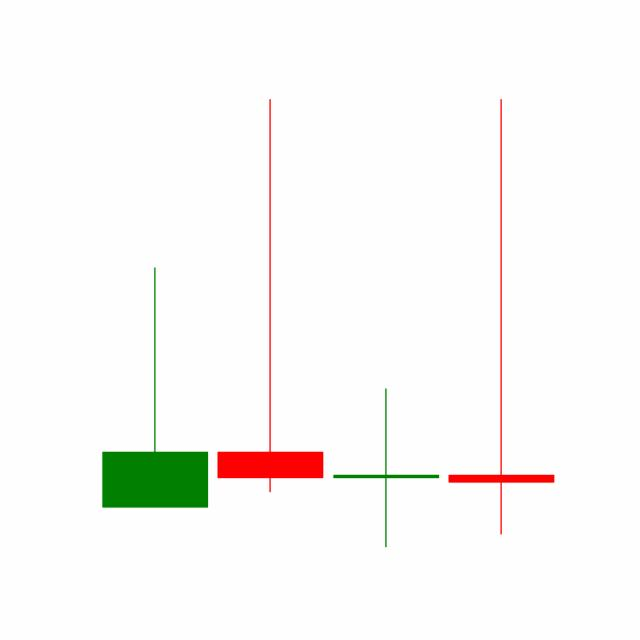Spinning Top: (443, 94, 559, 540)
